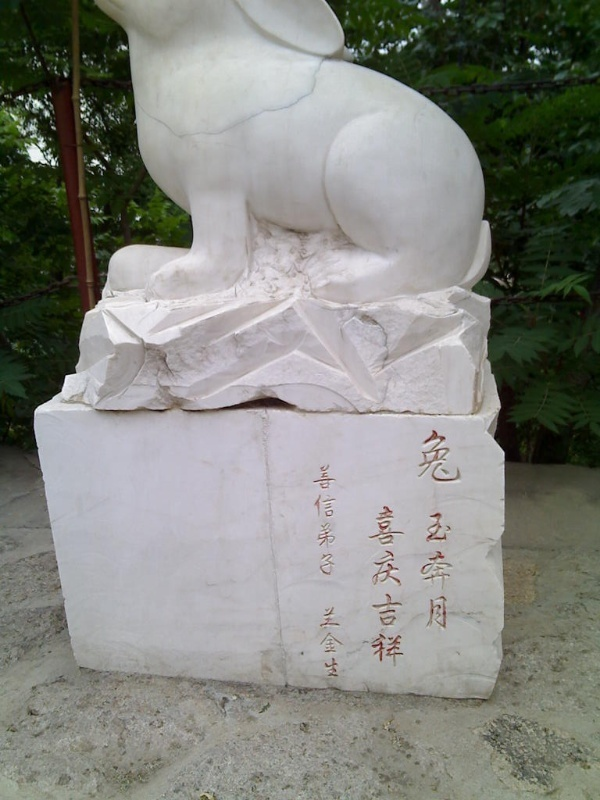text: (369, 504, 384, 669), (385, 504, 400, 669), (433, 511, 448, 633), (321, 462, 336, 578), (420, 511, 432, 633), (310, 462, 320, 578), (321, 606, 336, 679), (337, 462, 346, 578), (417, 431, 432, 484), (433, 431, 448, 484), (449, 431, 462, 484), (401, 504, 405, 669), (337, 606, 344, 679), (449, 511, 452, 633), (318, 606, 320, 679)
